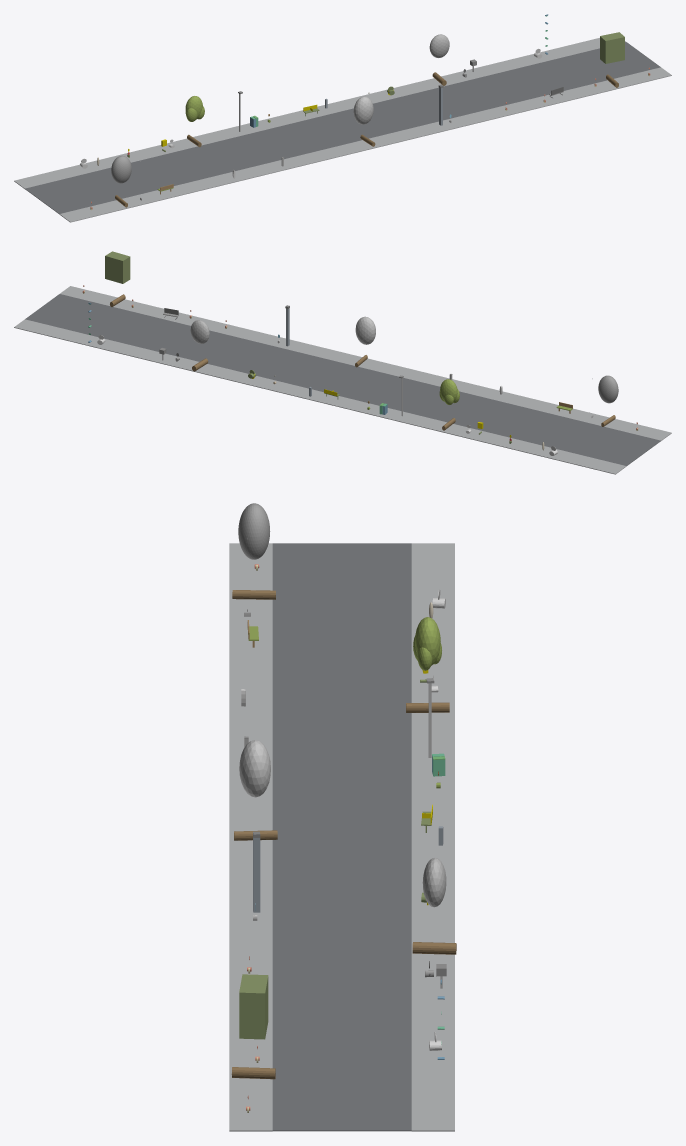
3 renders of one model, top to bottom at view 1: azimuth 30°, elevation 25°; view 2: azimuth 150°, elevation 25°; view 3: azimuth 270°, elevation 25°, orthographic. The views are drawn at different scales.
Parts seen in each view (by area): view 1: road_slab, sidewalk_left, sidewalk_right, inst_0016, inst_0014, inst_0012, inst_0013, inst_0015; view 2: road_slab, sidewalk_right, sidewalk_left, inst_0016, inst_0014, inst_0012, inst_0013, inst_0015; view 3: road_slab, sidewalk_right, sidewalk_left, inst_0016, inst_0012, inst_0014, inst_0013, inst_0015.
Part boxes in pixels (left/top/right/bottom): road_slab: left=25, top=42, right=660, bottom=214; sidewalk_left: left=59, top=67, right=671, bottom=222; sidewalk_right: left=14, top=38, right=625, bottom=188; inst_0016: left=600, top=32, right=624, bottom=87; inst_0014: left=353, top=96, right=375, bottom=146; inst_0012: left=111, top=155, right=131, bottom=207; inst_0013: left=185, top=96, right=204, bottom=147; inst_0015: left=429, top=34, right=449, bottom=85; road_slab: left=25, top=294, right=660, bottom=466; sidewalk_right: left=14, top=319, right=626, bottom=474; sidewalk_left: left=60, top=286, right=671, bottom=440; inst_0016: left=105, top=251, right=130, bottom=306; inst_0014: left=355, top=316, right=375, bottom=367; inst_0012: left=598, top=375, right=618, bottom=426; inst_0013: left=439, top=379, right=459, bottom=430; inst_0015: left=190, top=320, right=209, bottom=371; road_slab: left=272, top=543, right=411, bottom=1131; sidewalk_right: left=411, top=543, right=454, bottom=1131; sidewalk_left: left=229, top=543, right=272, bottom=1131; inst_0016: left=231, top=974, right=275, bottom=1079; inst_0012: left=232, top=503, right=275, bottom=599; inst_0014: left=234, top=740, right=277, bottom=840; inst_0013: left=406, top=617, right=449, bottom=712; inst_0015: left=412, top=858, right=456, bottom=954.
Bounding box in the file's own units: 80 × 6.08 × 13.08.
